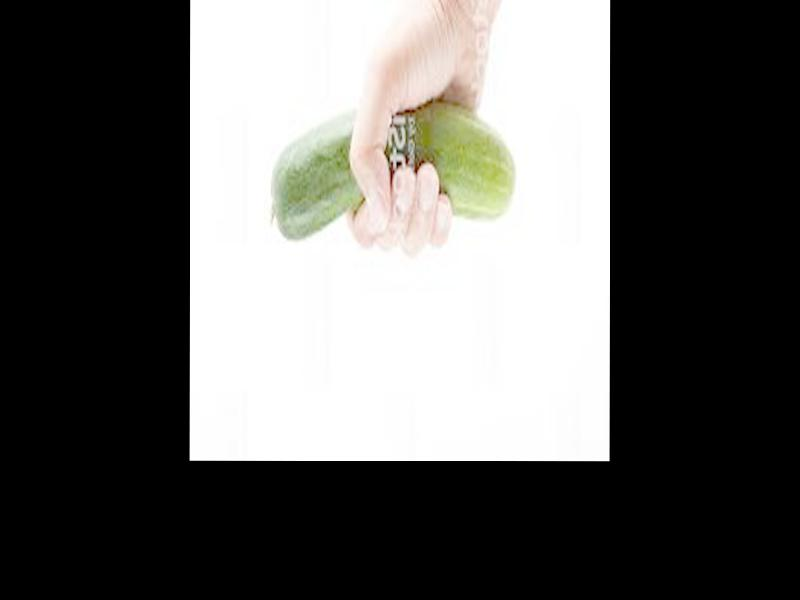Cucumber: (271, 100, 514, 244)
